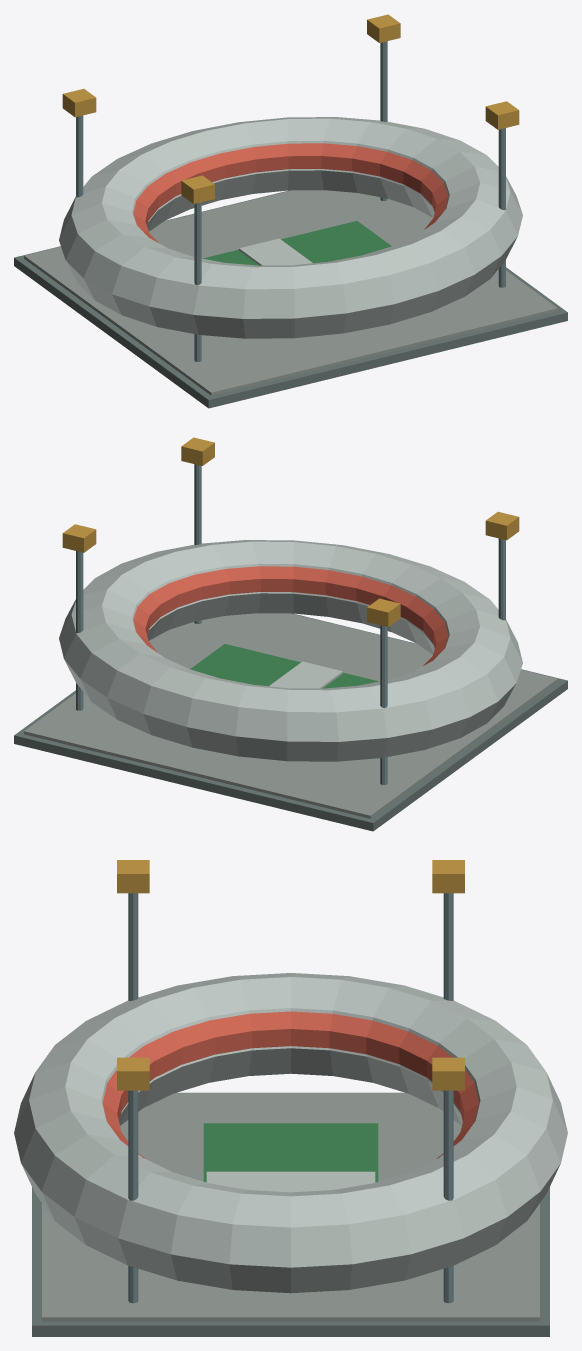
File: stadium_lv2.glb
The picture shows the model from 3 angles, top to bottom: view 1: azimuth 30°, elevation 25°; view 2: azimuth 150°, elevation 25°; view 3: azimuth 270°, elevation 25°; orthographic projection. The views are drawn at different scales.
Visible parts, largest first — view 1: rough, metallic; view 2: rough, metallic; view 3: rough, metallic.
Part boxes in pixels (x1,y1,x2,y2): rough: (14, 14, 567, 408); metallic: (76, 41, 505, 361); rough: (14, 437, 567, 831); metallic: (76, 464, 505, 784); rough: (14, 860, 567, 1336); metallic: (128, 893, 453, 1303).
Size of the model in its own units: 11.32 by 4.99 by 9.84.
